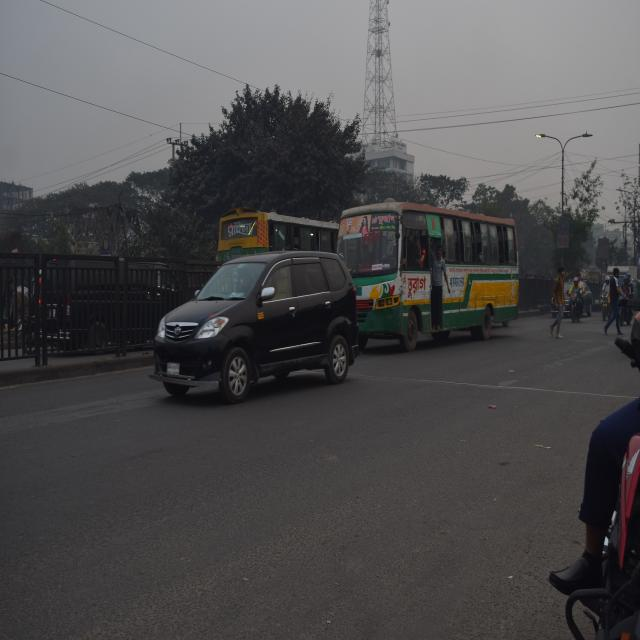bus: (341, 202, 519, 334)
car: (160, 246, 354, 388)
motorbike: (566, 286, 584, 326), (595, 290, 612, 319)
